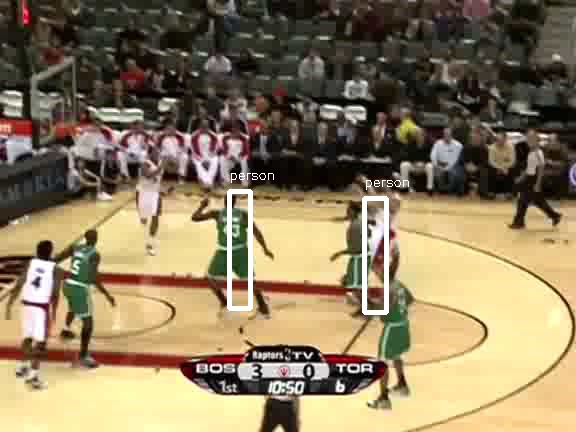person: (342, 212, 376, 293), (341, 212, 375, 293), (343, 212, 377, 293), (342, 211, 376, 292), (342, 213, 376, 294)
target_negative: (356, 145, 506, 415), (45, 283, 276, 426), (277, 158, 502, 297), (419, 351, 454, 422), (516, 352, 543, 396), (398, 429, 501, 432)
